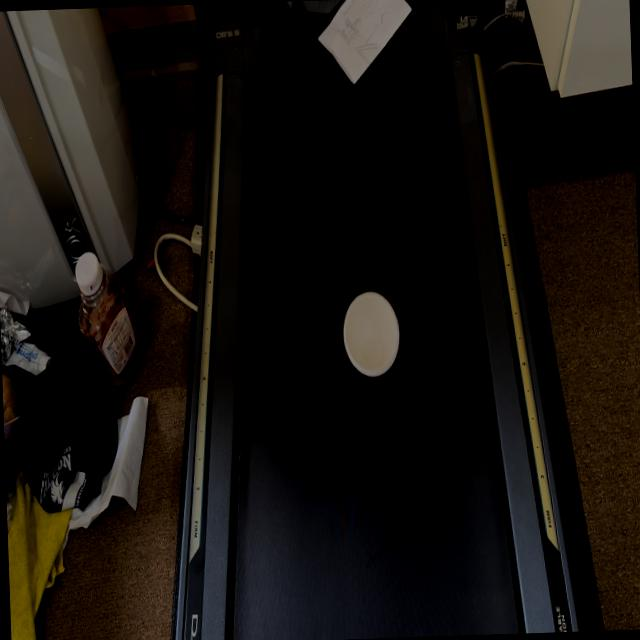Recycle: (316, 0, 416, 83), (341, 288, 402, 378)
